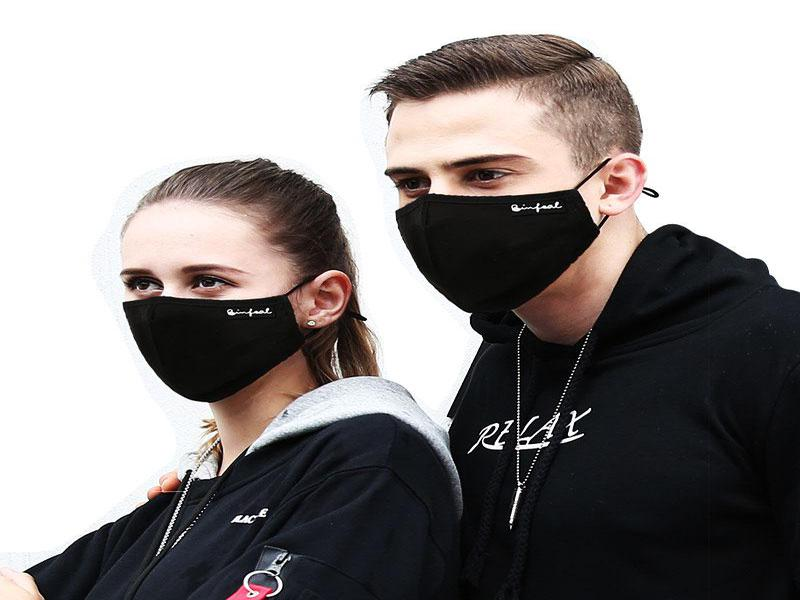with_mask: (376, 30, 649, 319), (116, 151, 349, 409)
